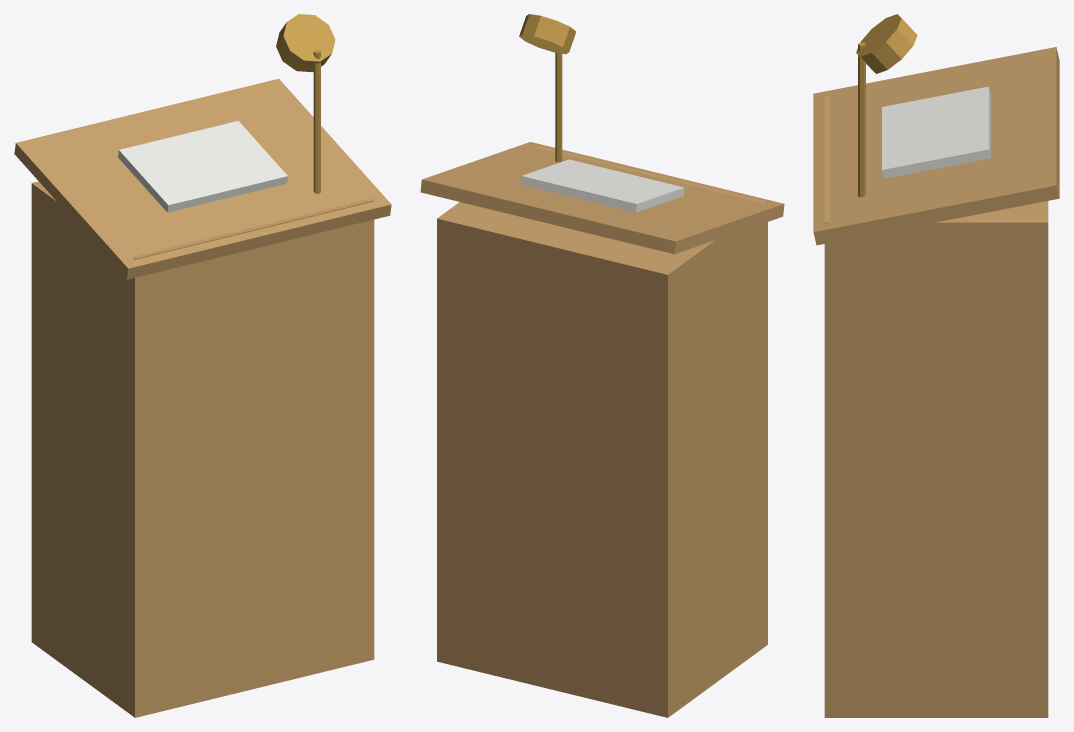
File: hospitality.restaurant.host_stand.glb
3 renders of one model, left to right at view 1: azimuth 30°, elevation 25°; view 2: azimuth 150°, elevation 25°; view 3: azimuth 270°, elevation 25°, orthographic. The views are drawn at different scales.
Visible parts, largest first — view 1: main__glulam, main__paint_white, main__brass; view 2: main__glulam, main__paint_white, main__brass; view 3: main__glulam, main__paint_white, main__brass.
Boxes of the visible parts, x1,y1,x2,y2 form: main__glulam: (14,78,391,717); main__paint_white: (118,121,287,212); main__brass: (276,14,335,193); main__glulam: (420,142,784,717); main__paint_white: (520,159,684,212); main__brass: (519,14,576,162); main__glulam: (813,47,1059,717); main__paint_white: (882,86,990,178); main__brass: (856,14,917,197).
Bounding box in the file's own units: 0.66 × 1.51 × 0.4953.
